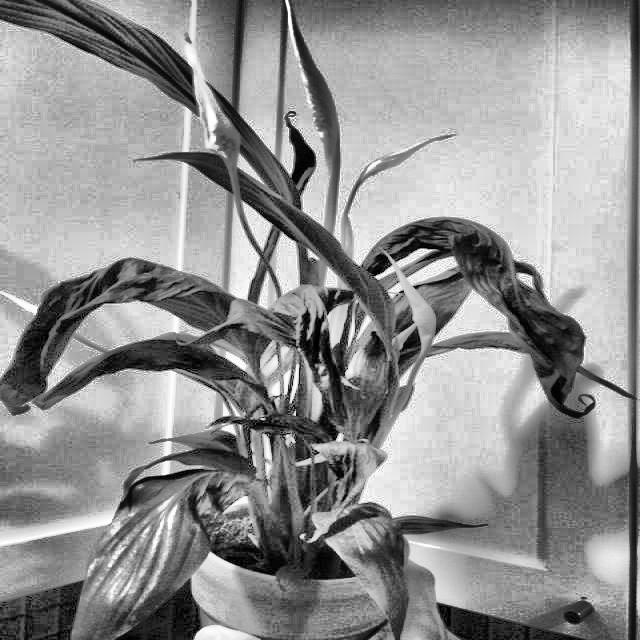plants: (8, 11, 612, 639), (354, 202, 596, 426), (10, 242, 255, 414), (109, 453, 234, 601), (313, 490, 420, 638)
